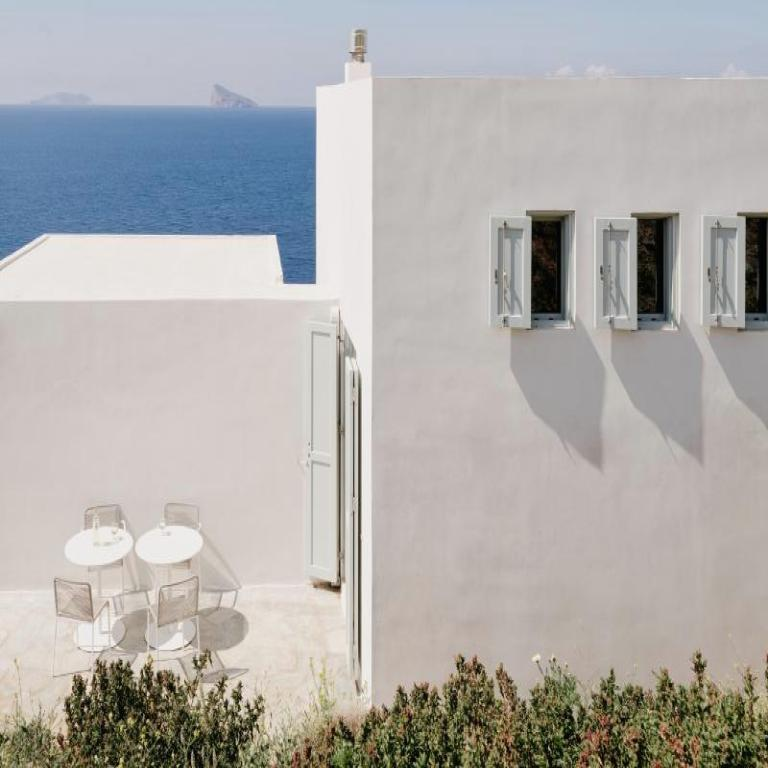white-walls: (392, 95, 749, 622), (23, 332, 272, 486)
